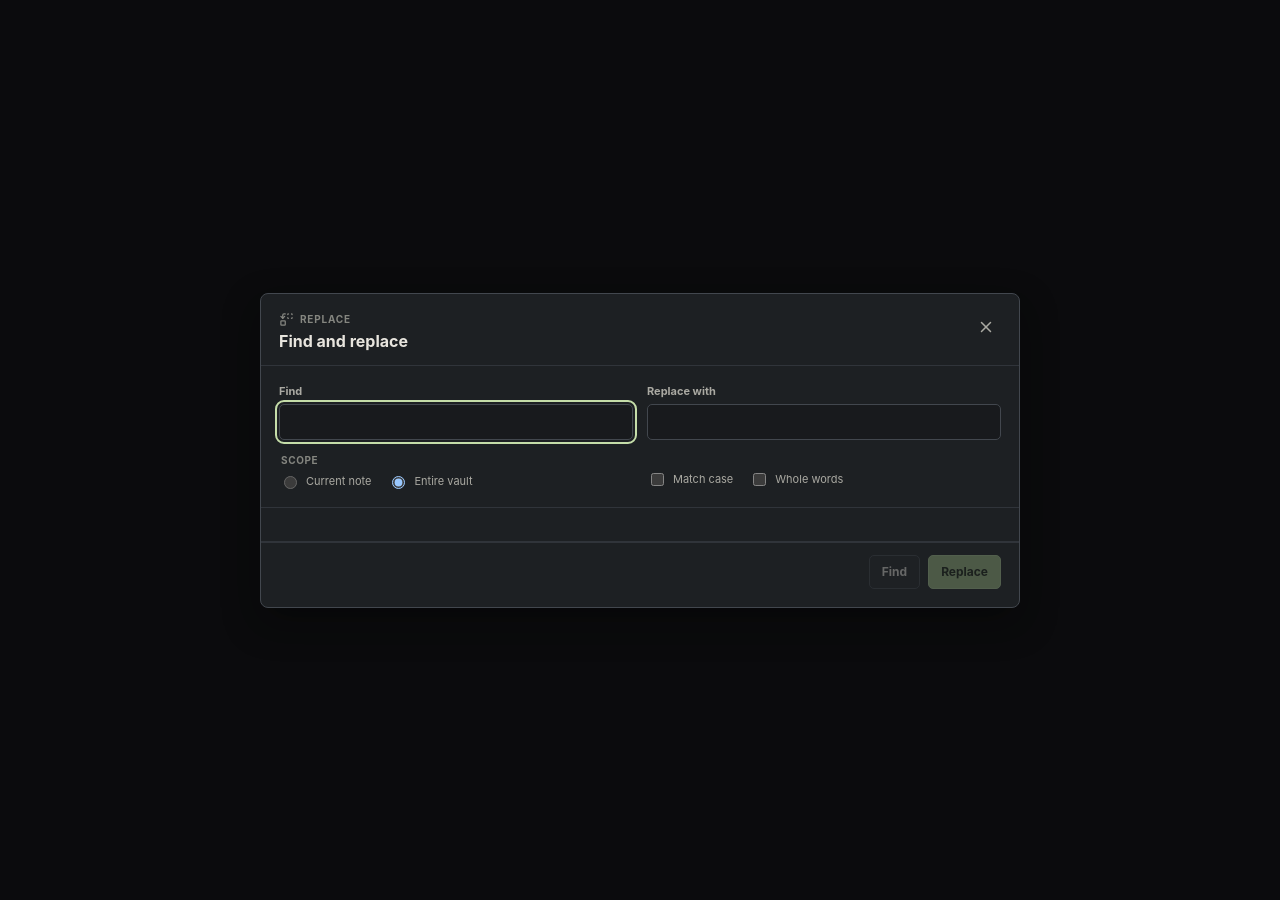
Test: ReplaceDialog › shows preview failures instead of reporting no matches
The width and height of the screenshot is (1280, 900).
Type "note" into the field labelled "Find" at {"x": 456, "y": 422}, box x1=279 y1=404 x2=633 y2=440
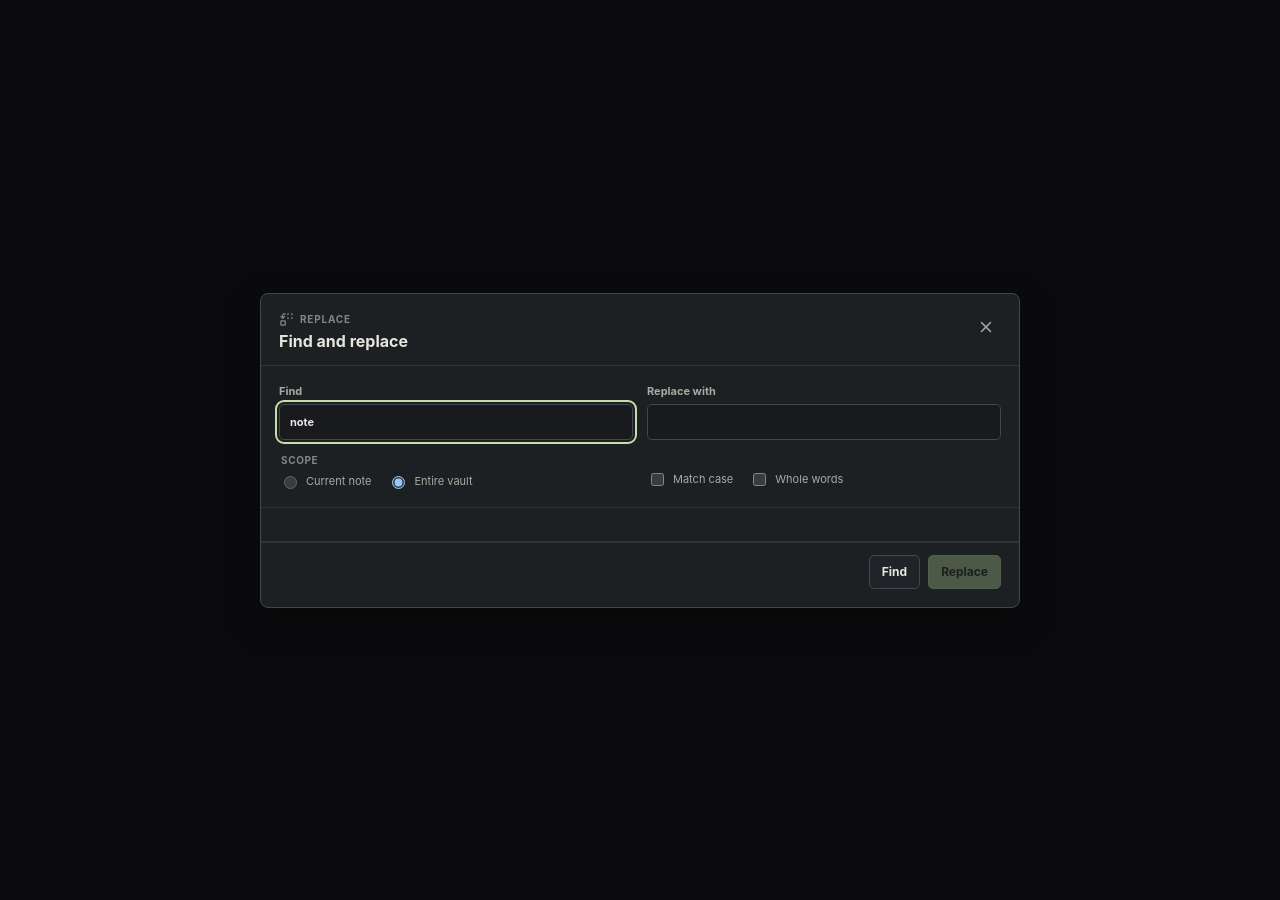
Click the button "Find" at {"x": 894, "y": 572}, box x1=869 y1=554 x2=920 y2=588
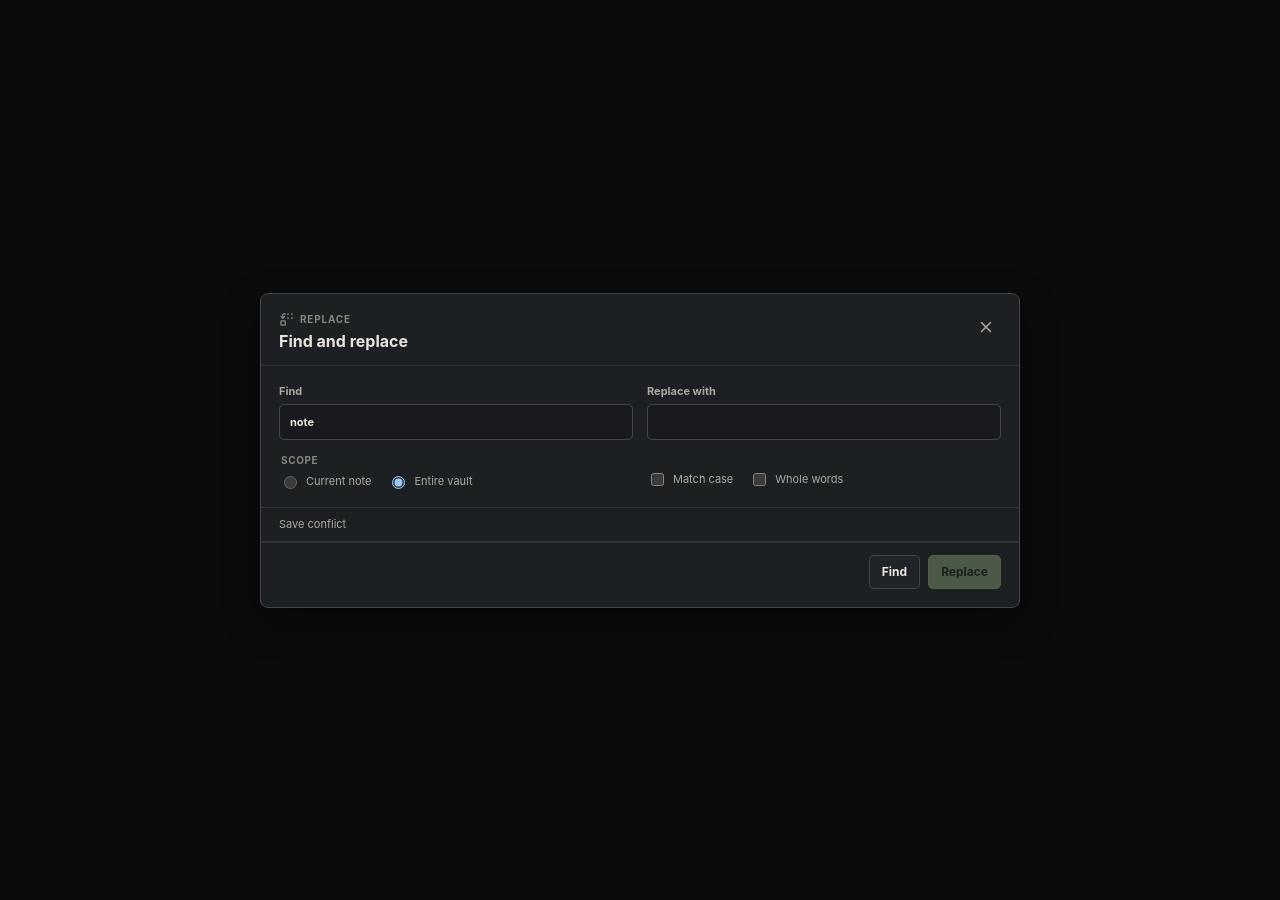
Expected: the text "Save conflict" is shown, x1=279 y1=517 x2=346 y2=531
